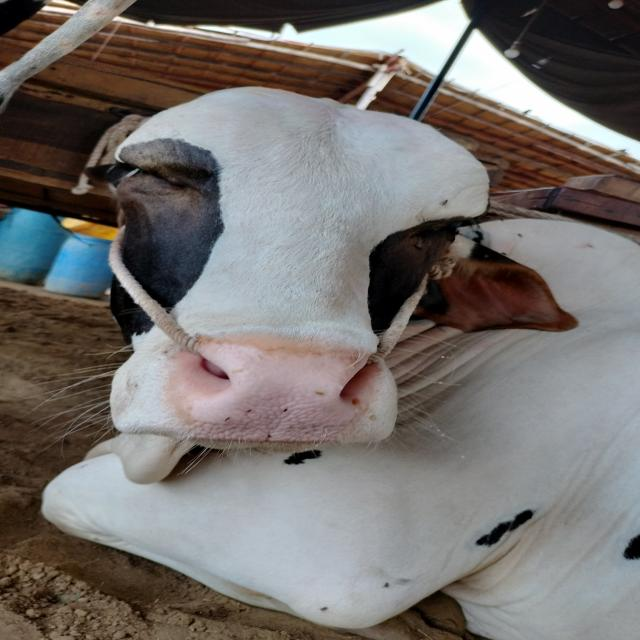muzzles: (140, 330, 398, 454)
